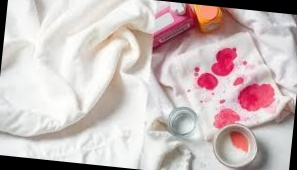lipstick: (207, 44, 249, 86), (228, 76, 272, 114), (207, 102, 245, 135), (189, 63, 225, 97)
